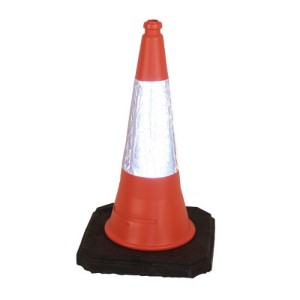traffic cone: (76, 19, 215, 279)
